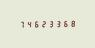eight: (66, 19, 72, 27)
four: (24, 20, 30, 28)
seven: (17, 20, 23, 28)
six: (31, 20, 37, 28), (59, 19, 65, 27)
three: (52, 19, 58, 27), (45, 20, 51, 27)
two: (38, 20, 44, 28)
